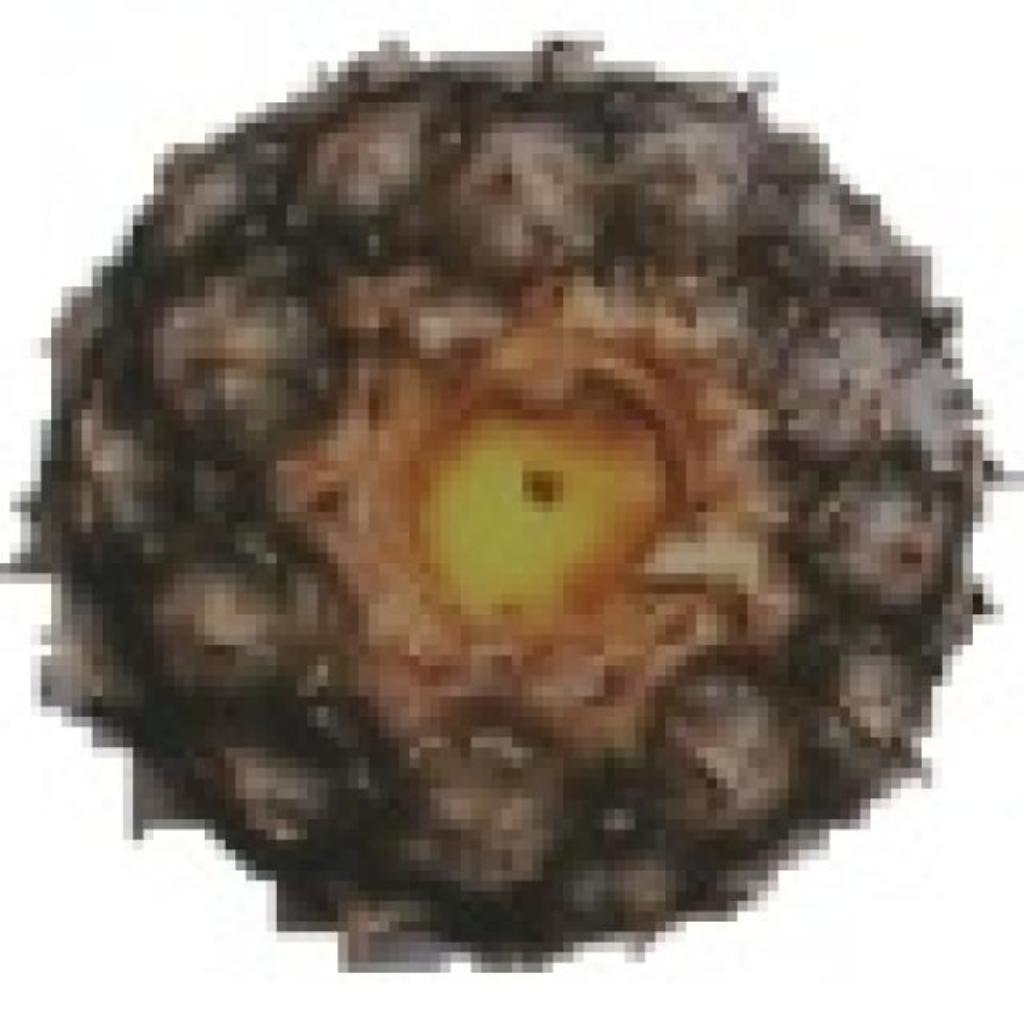pineapple: (72, 31, 993, 942)
